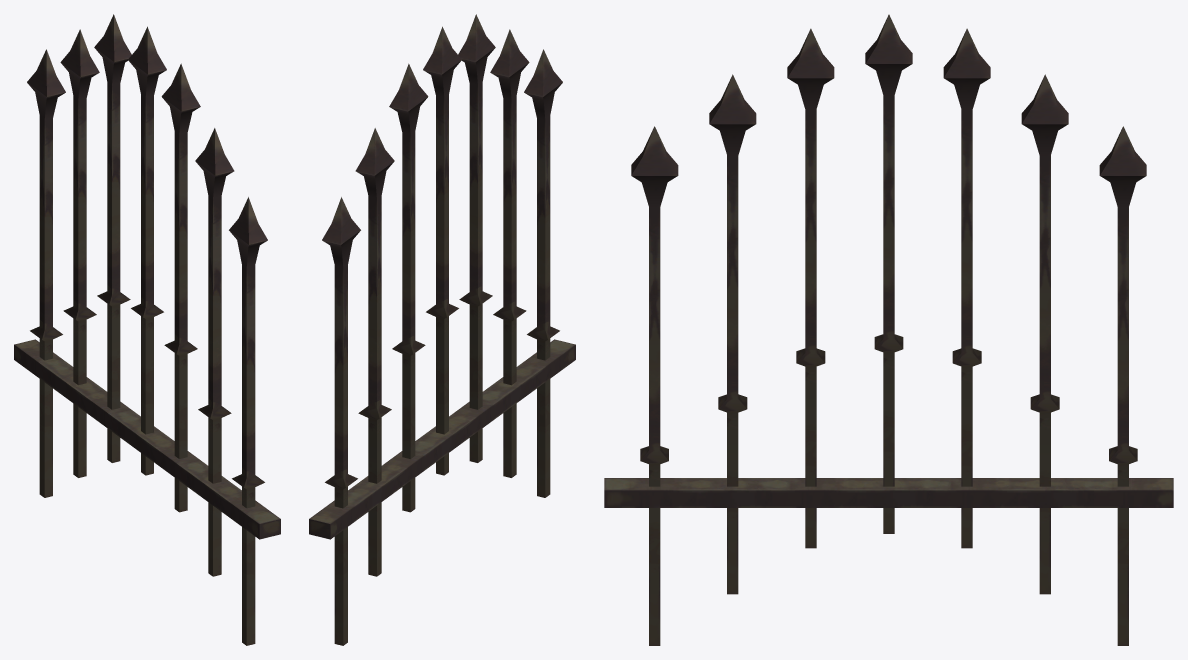
The model's file is SpikeDoor (1).fbx.
3 views of the same model, side by side, from view 1: azimuth 30°, elevation 25°; view 2: azimuth 150°, elevation 25°; view 3: azimuth 270°, elevation 25° (orthographic). The views are drawn at different scales.
Visible parts, largest first — view 1: fenceBar, spikeFenceCentral (3), spikeFenceCentral (2), spikeFenceCentral (4), spikeFenceCentral (5), spikeFenceCentral (6), spikeFenceCentral (1), spikeFenceCentral; view 2: fenceBar, spikeFenceCentral (5), spikeFenceCentral (6), spikeFenceCentral (1), spikeFenceCentral (2), spikeFenceCentral (3), spikeFenceCentral (4), spikeFenceCentral; view 3: fenceBar, spikeFenceCentral (1), spikeFenceCentral (4), spikeFenceCentral (2), spikeFenceCentral (5), spikeFenceCentral, spikeFenceCentral (3), spikeFenceCentral (6).
Boxes of the visible parts, x1,y1,x2,y2 form: fenceBar: [14, 339, 280, 539]; spikeFenceCentral (3): [27, 49, 65, 497]; spikeFenceCentral (2): [60, 29, 99, 477]; spikeFenceCentral (4): [161, 63, 200, 512]; spikeFenceCentral (5): [195, 128, 234, 576]; spikeFenceCentral (6): [229, 197, 267, 645]; spikeFenceCentral (1): [94, 14, 131, 462]; spikeFenceCentral: [128, 26, 166, 475]; fenceBar: [309, 339, 575, 539]; spikeFenceCentral (5): [490, 29, 529, 477]; spikeFenceCentral (6): [524, 49, 562, 497]; spikeFenceCentral (1): [389, 63, 428, 512]; spikeFenceCentral (2): [355, 128, 394, 576]; spikeFenceCentral (3): [322, 197, 360, 645]; spikeFenceCentral (4): [458, 14, 495, 462]; spikeFenceCentral: [423, 26, 461, 475]; fenceBar: [604, 478, 1173, 507]; spikeFenceCentral (1): [943, 28, 990, 548]; spikeFenceCentral (4): [787, 28, 834, 548]; spikeFenceCentral (2): [1021, 74, 1068, 594]; spikeFenceCentral (5): [709, 74, 756, 594]; spikeFenceCentral: [865, 14, 912, 533]; spikeFenceCentral (3): [1099, 126, 1146, 645]; spikeFenceCentral (6): [631, 126, 678, 645].
Bounding box in the file's own units: 0.3691 × 8.89 × 7.29.
1 material, 1 textured.
